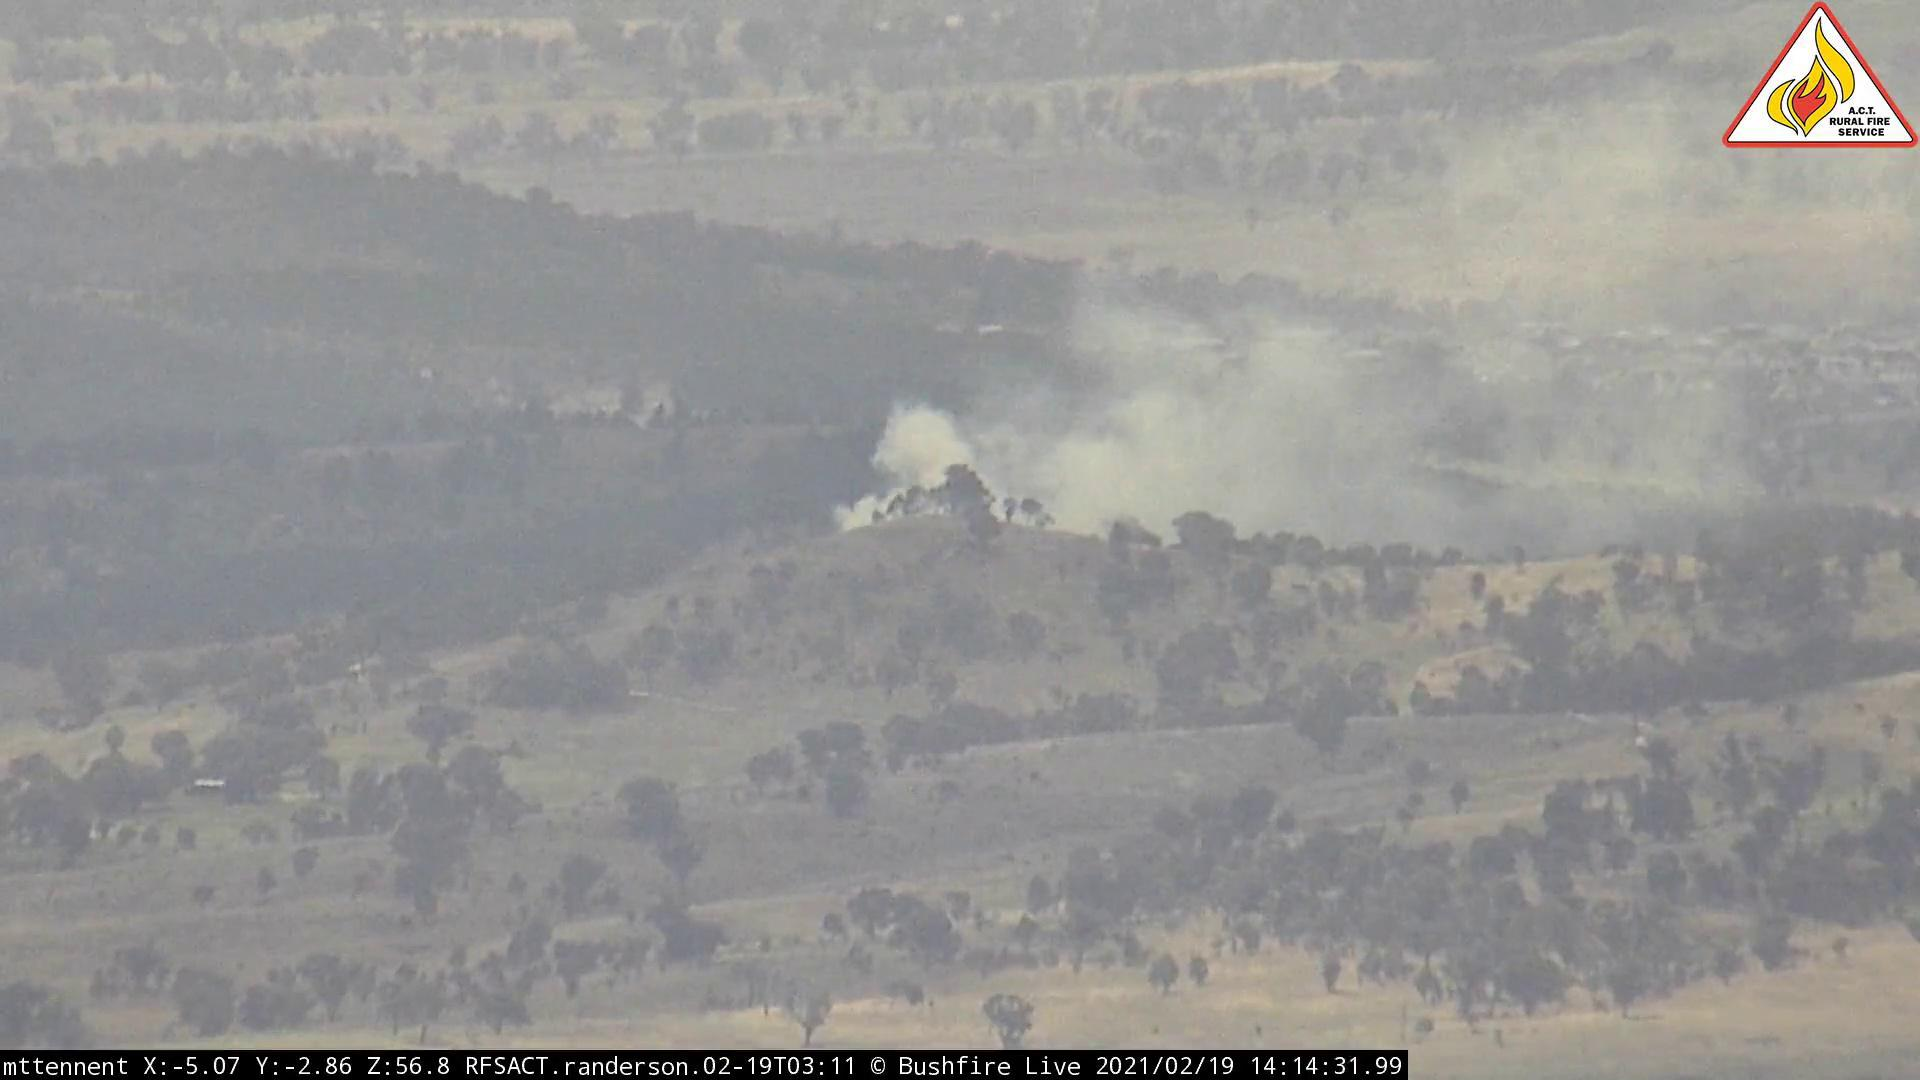instance_salient_object: (824, 164, 1738, 556)
